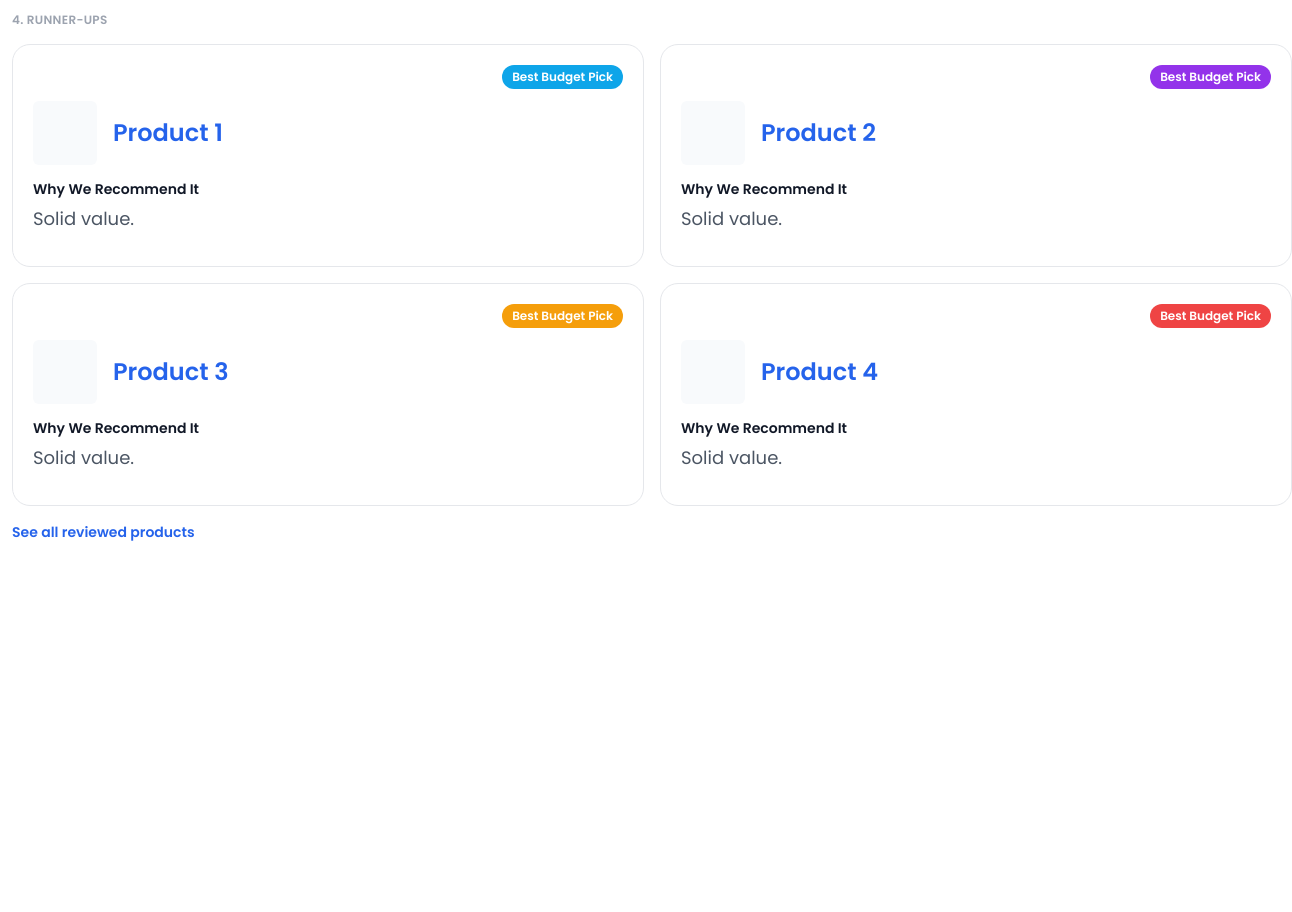
Test case: RunnerUpsSection › shows a real "See all reviewed products" toggle beyond 4, revealing the rest
expect the text "Product 5" is not shown: met
Click the button "See all reviewed products". click: coordinates (103, 532)
box: left=12, top=522, right=194, bottom=542
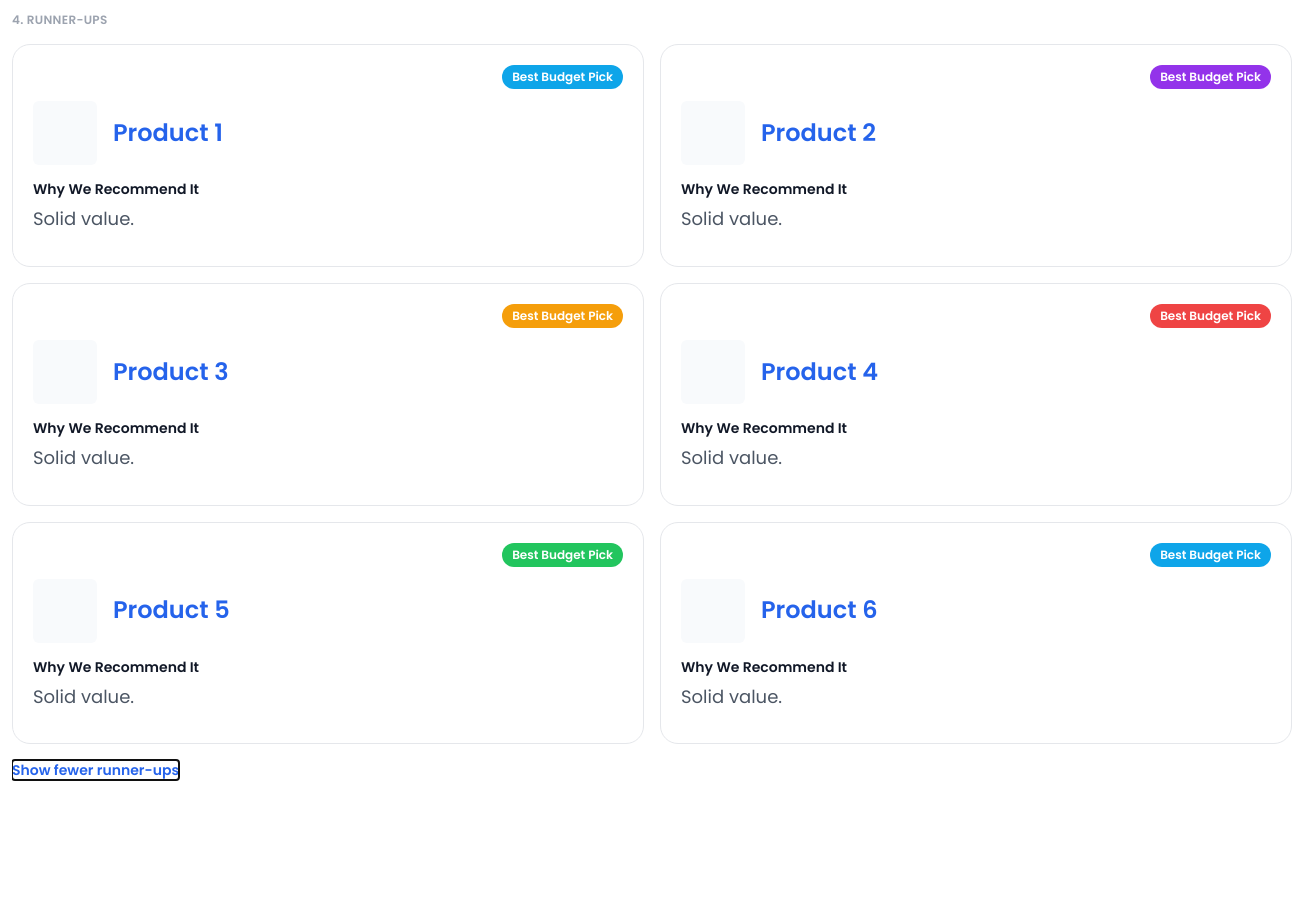
expect the link "Product 5" is shown: met, box left=113, top=593, right=230, bottom=626
expect the button named "See all reviewed products" is expanded: met, box left=12, top=760, right=179, bottom=780
